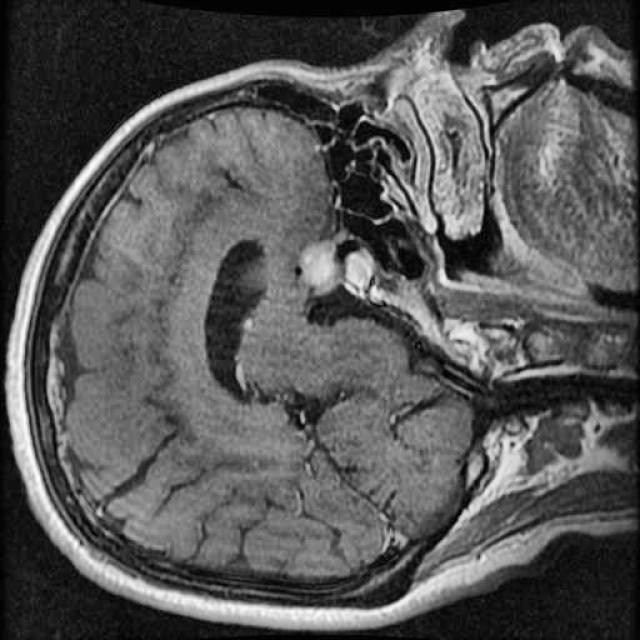Tumor: (281, 229, 382, 301)
